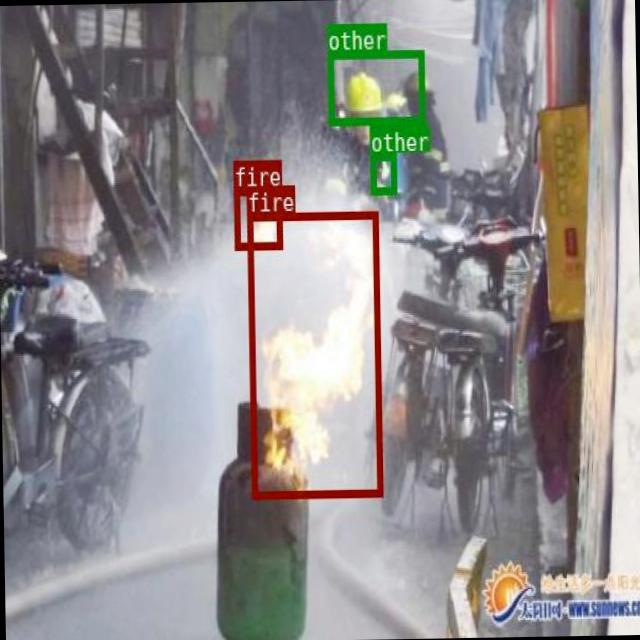fire: (246, 209, 382, 496), (232, 186, 282, 248)
